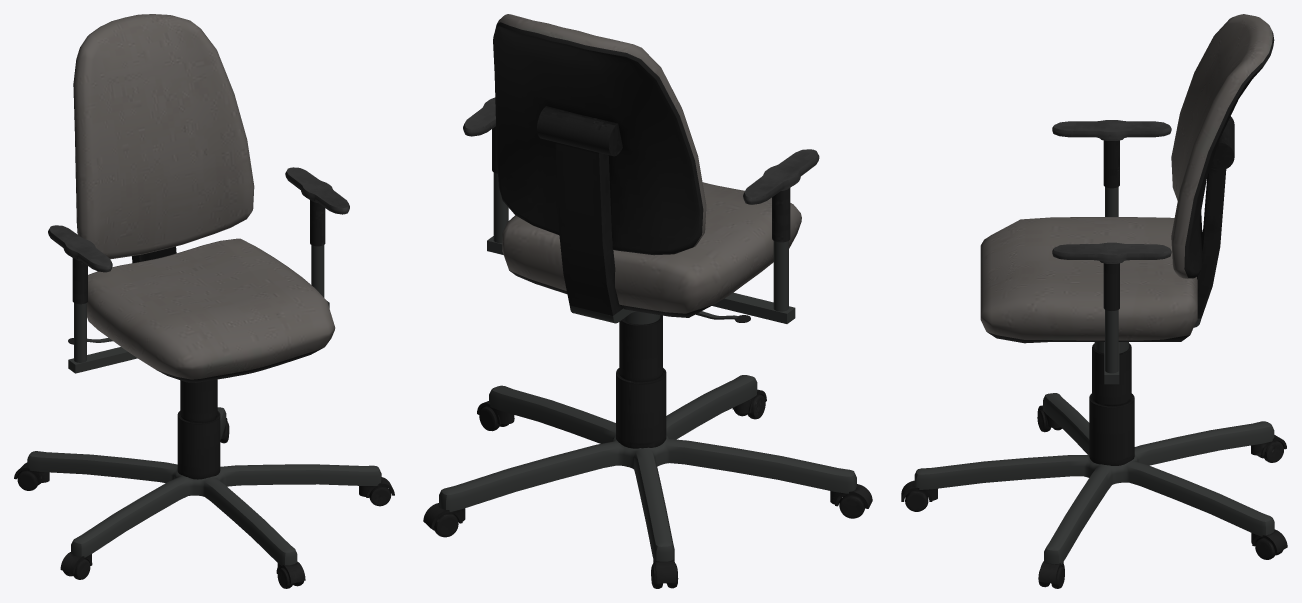
The model's file is chair_opt.glb.
3 renders of one model, left to right at view 1: azimuth 30°, elevation 25°; view 2: azimuth 150°, elevation 25°; view 3: azimuth 270°, elevation 25°, orthographic. The views are drawn at different scales.
Visible parts, largest first — view 1: OfficeChair_OfficeChairCloth_0, OfficeChair_OfficeChairMetal_0, OfficeChair_OfficeChairPlastic_0, OfficeChair_OfficeChairLeather_0; view 2: OfficeChair_OfficeChairPlastic_0, OfficeChair_OfficeChairMetal_0, OfficeChair_OfficeChairCloth_0, OfficeChair_OfficeChairLeather_0; view 3: OfficeChair_OfficeChairCloth_0, OfficeChair_OfficeChairMetal_0, OfficeChair_OfficeChairPlastic_0, OfficeChair_OfficeChairLeather_0.
Boxes of the visible parts, x1,y1,x2,y2 form: OfficeChair_OfficeChairCloth_0: (73, 14, 335, 379); OfficeChair_OfficeChairMetal_0: (27, 245, 381, 566); OfficeChair_OfficeChairPlastic_0: (14, 54, 394, 588); OfficeChair_OfficeChairLeather_0: (48, 167, 349, 272); OfficeChair_OfficeChairPlastic_0: (423, 22, 872, 588); OfficeChair_OfficeChairMetal_0: (439, 172, 856, 561); OfficeChair_OfficeChairCloth_0: (497, 14, 801, 313); OfficeChair_OfficeChairLeather_0: (463, 97, 819, 204); OfficeChair_OfficeChairCloth_0: (980, 14, 1272, 340); OfficeChair_OfficeChairMetal_0: (914, 187, 1274, 564); OfficeChair_OfficeChairPlastic_0: (901, 31, 1287, 588); OfficeChair_OfficeChairLeather_0: (1052, 120, 1171, 263).
Bounding box in the file's own units: 97.3 × 126 × 92.63.
4 materials, 3 textured.
